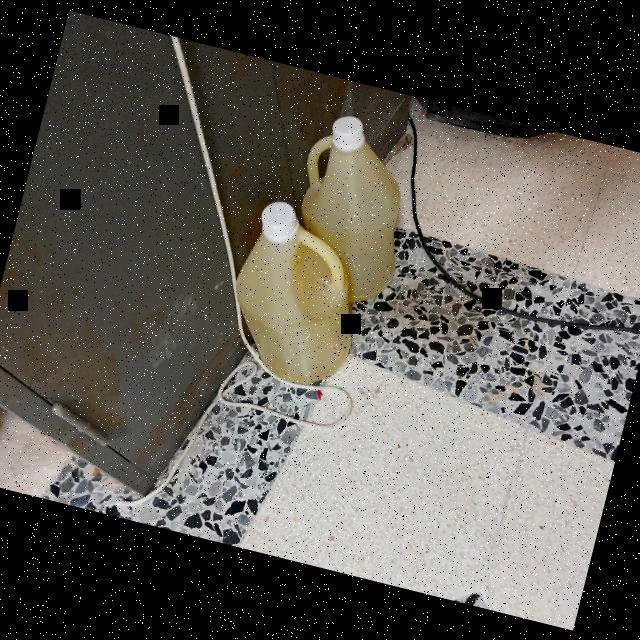chemical_plastic_gallon: (266, 100, 428, 314), (205, 198, 371, 393)
